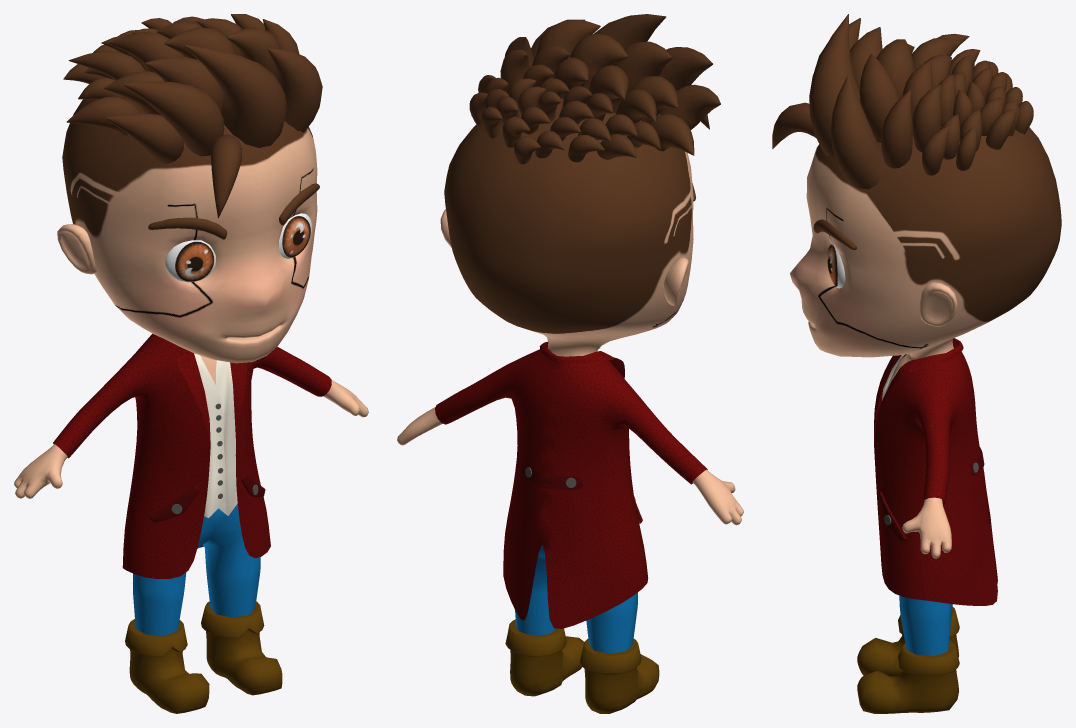
Rendered from Mike.fbx.
3 views of the same model, side by side, from view 1: azimuth 30°, elevation 25°; view 2: azimuth 150°, elevation 25°; view 3: azimuth 270°, elevation 25° (orthographic). The views are drawn at different scales.
Visible parts, largest first — view 1: Cuerpo; view 2: Cuerpo; view 3: Cuerpo.
Part boxes in pixels (x1=…): Cuerpo: x1=14, y1=14, x2=368, y2=713; Cuerpo: x1=397, y1=14, x2=743, y2=713; Cuerpo: x1=772, y1=14, x2=1061, y2=713.
Size of the model in its own units: 0.9444 by 1.75 by 0.7034.
